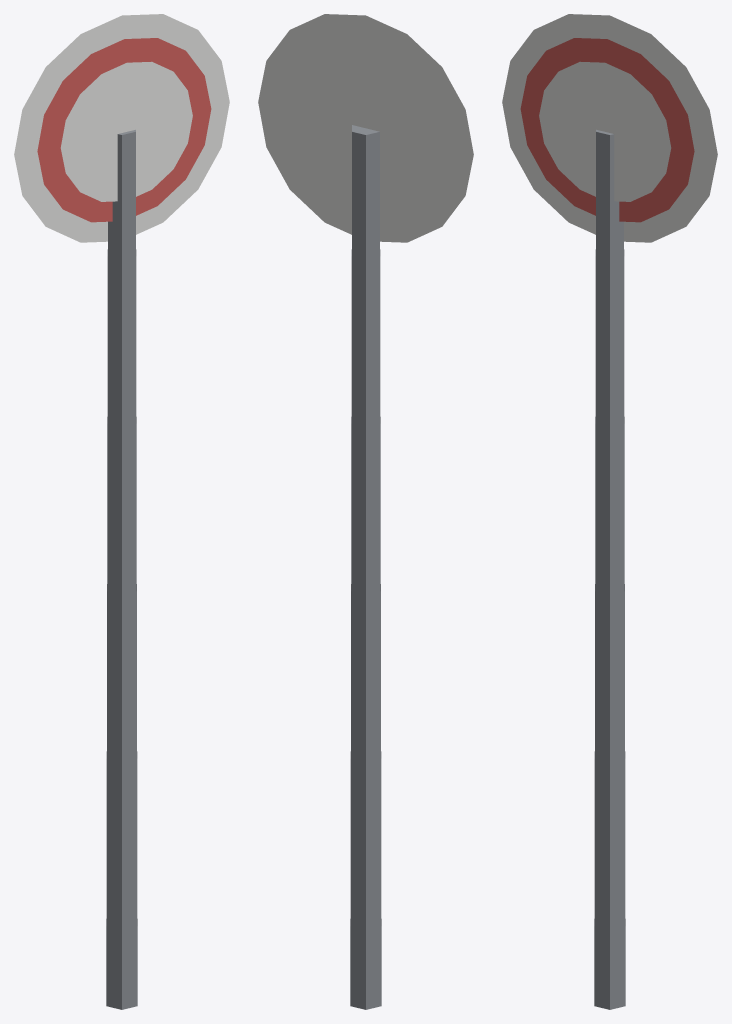
Rendered from prop-sign-speed.glb.
3 views of the same model, side by side, from view 1: azimuth 30°, elevation 25°; view 2: azimuth 150°, elevation 25°; view 3: azimuth 330°, elevation 25° (orthographic).
Parts seen in each view (by area): view 1: sign-post, sign-inner, sign-face, sign-ring; view 2: sign-face, sign-post; view 3: sign-post, sign-inner, sign-face, sign-ring.
Boxes of the visible parts, x1=… form: sign-post: x1=106, y1=129, x2=137, y2=1009; sign-inner: x1=60, y1=61, x2=192, y2=201; sign-face: x1=14, y1=14, x2=229, y2=242; sign-ring: x1=37, y1=38, x2=211, y2=222; sign-face: x1=258, y1=14, x2=473, y2=242; sign-post: x1=350, y1=125, x2=381, y2=1009; sign-post: x1=594, y1=129, x2=625, y2=1009; sign-inner: x1=539, y1=61, x2=671, y2=201; sign-face: x1=502, y1=14, x2=717, y2=242; sign-ring: x1=520, y1=38, x2=694, y2=222.
Bounding box in the file's own units: 0.62 × 2.71 × 0.0779.
